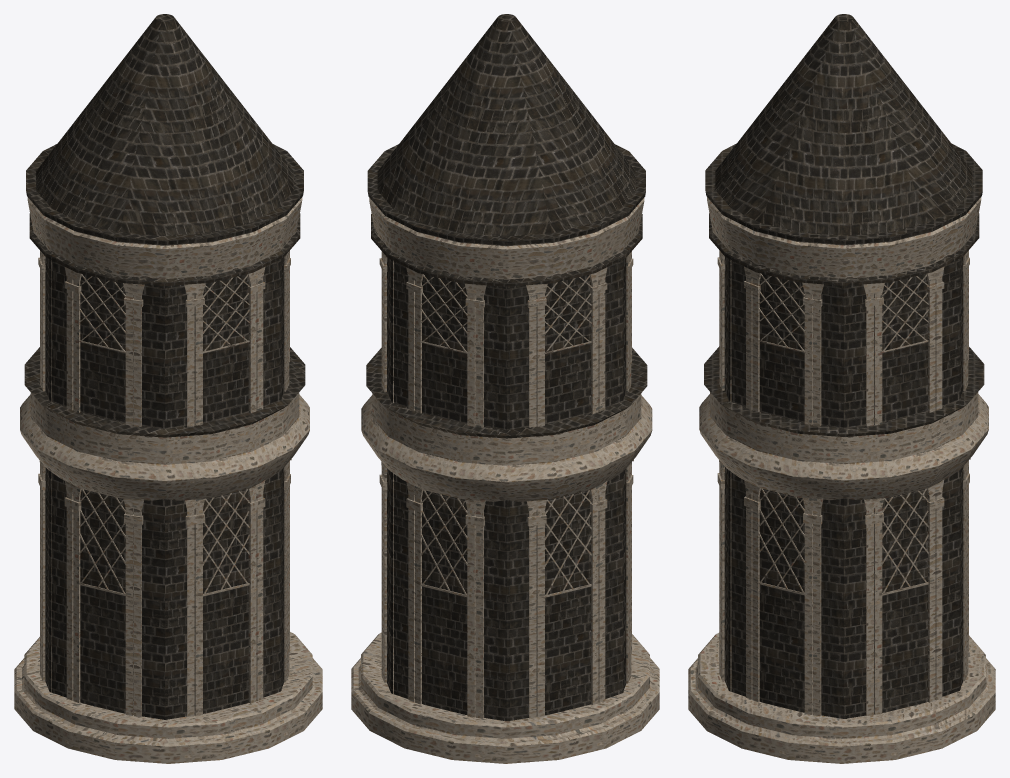
Rendered from Tower 2.fbx.
The picture shows the model from 3 angles, left to right: view 1: azimuth 30°, elevation 25°; view 2: azimuth 150°, elevation 25°; view 3: azimuth 270°, elevation 25°; orthographic projection.
Visible parts, largest first — view 1: MSH_Tower; view 2: MSH_Tower; view 3: MSH_Tower.
Boxes of the visible parts, x1,y1,x2,y2 form: MSH_Tower: [14, 14, 322, 763]; MSH_Tower: [351, 14, 659, 763]; MSH_Tower: [688, 14, 995, 763].
Size of the model in its own units: 214 by 210 by 512.
